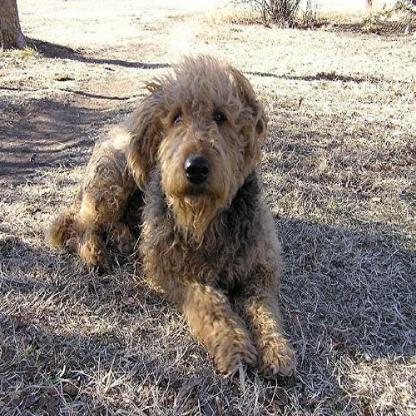dog: (38, 41, 298, 385)
